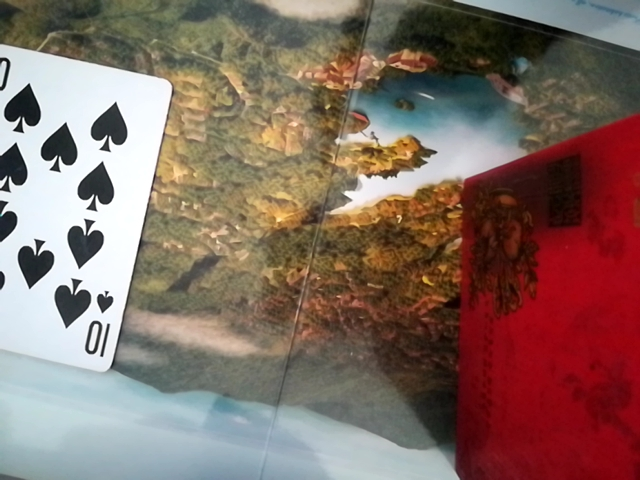ht 10: (0, 30, 170, 379)
